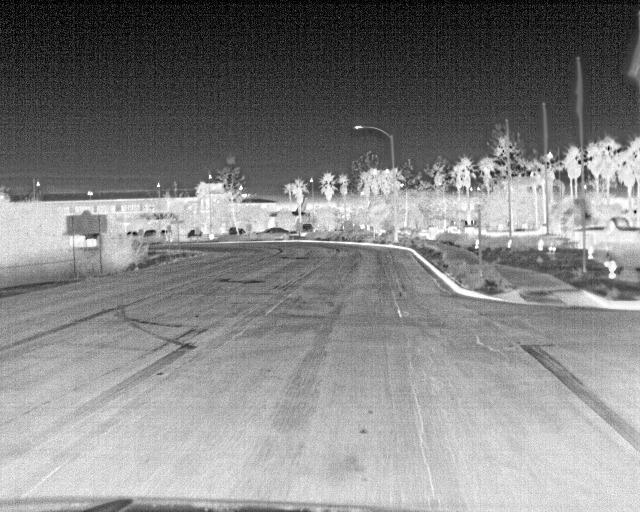car: (584, 217, 639, 244), (256, 225, 288, 240), (143, 228, 161, 242), (300, 223, 313, 238), (288, 229, 299, 240)
